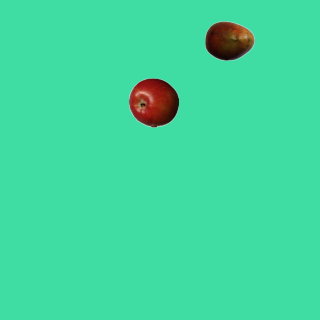Apple Braeburn: (128, 77, 178, 127)
Mango Red: (204, 15, 254, 65)
